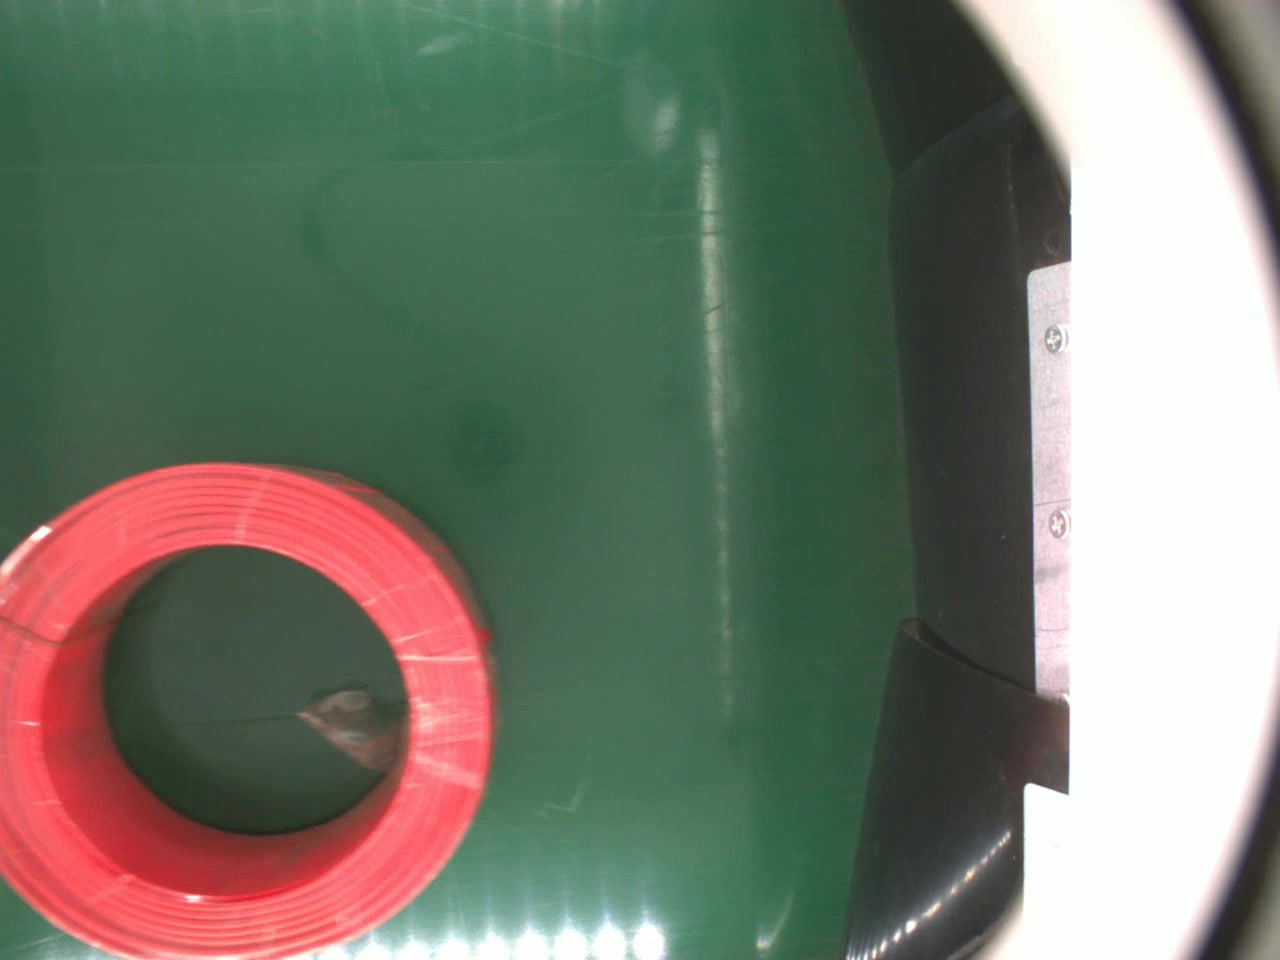red: (0, 458, 500, 960)
